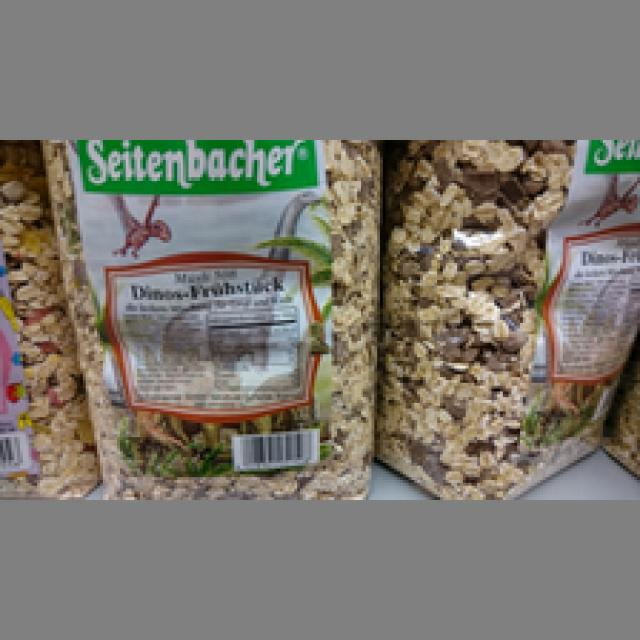groceries: (40, 137, 380, 494), (380, 137, 637, 500)
